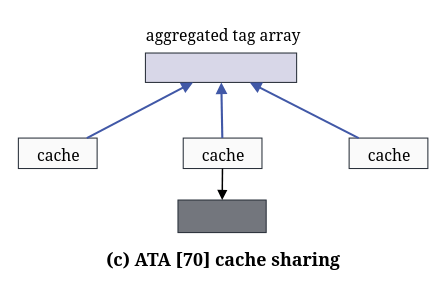
The diagram is 446 pixels wide and 288 high, and some of its shapes have lost their labels. Each missing label, with the centre of its shape:
"L2" goes at point 221,216.
"tag tag tag tag" goes at point 220,67.
